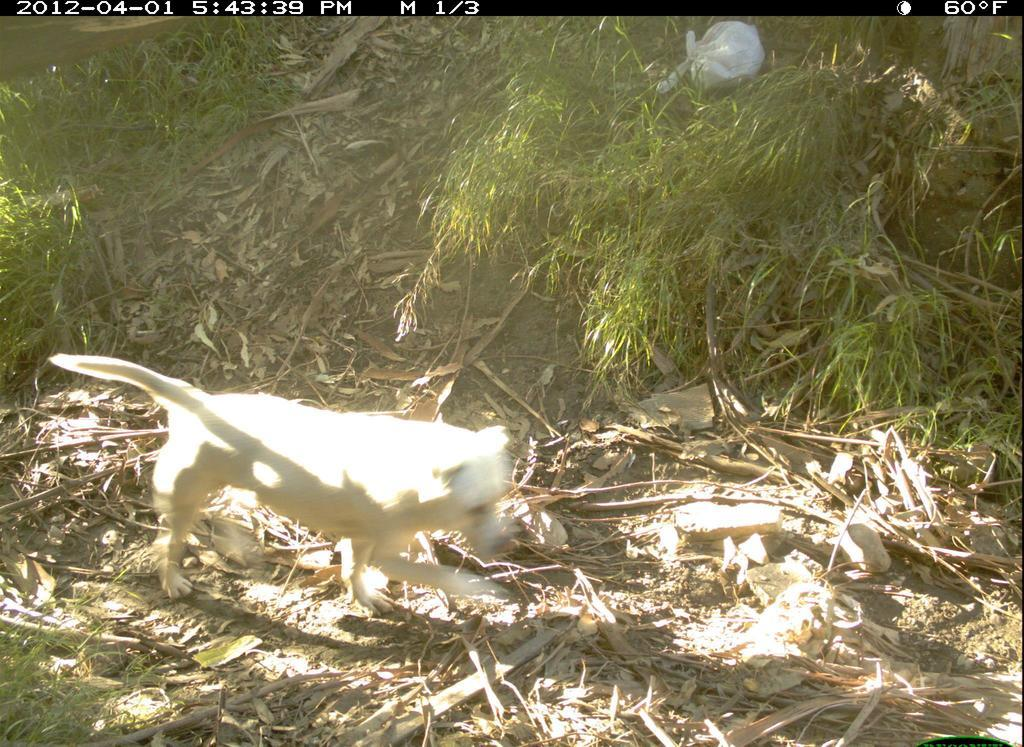dog: (49, 331, 523, 629)
